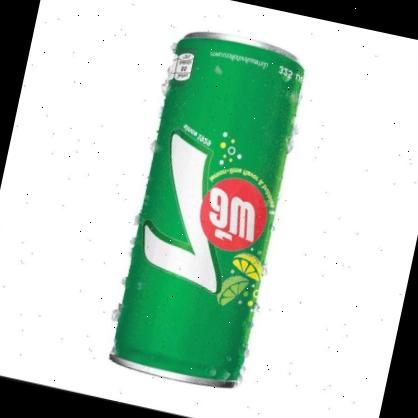can: (101, 21, 312, 398)
